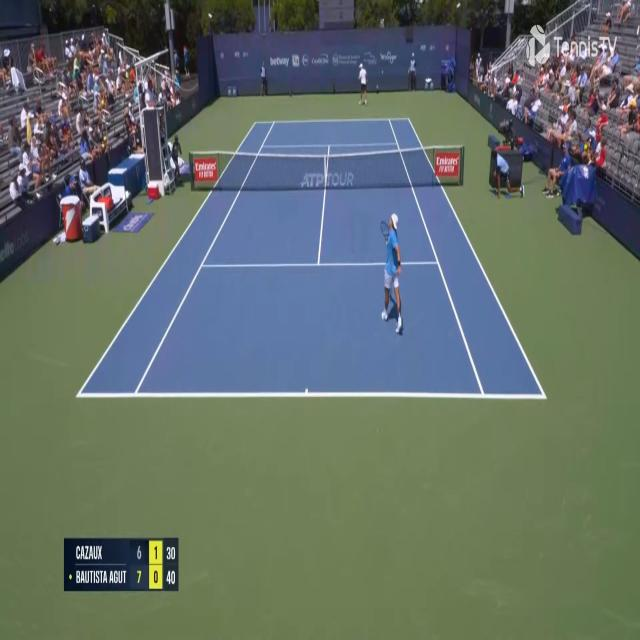tennis-player: (379, 211, 405, 336), (357, 59, 369, 108)
